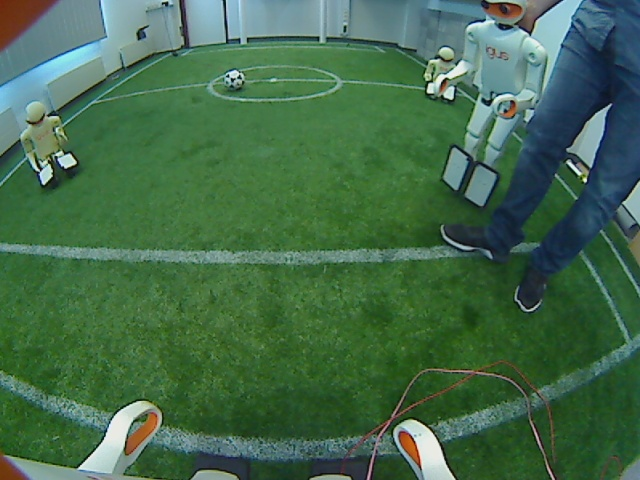ball: (222, 67, 248, 93)
robot: (440, 2, 550, 207), (15, 99, 82, 188), (422, 34, 463, 98)
